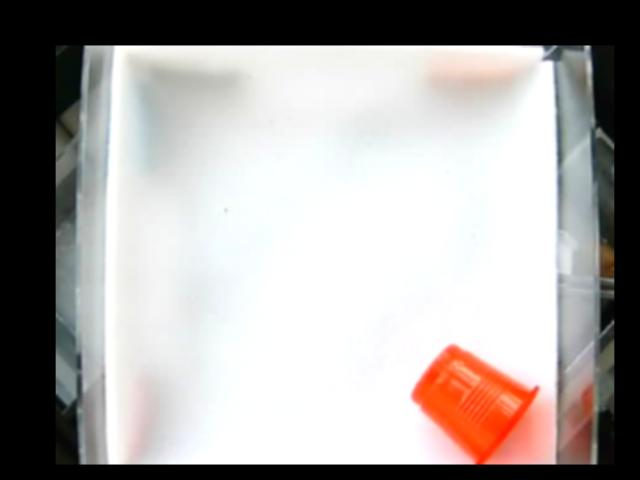Cup: (408, 343, 544, 464)
